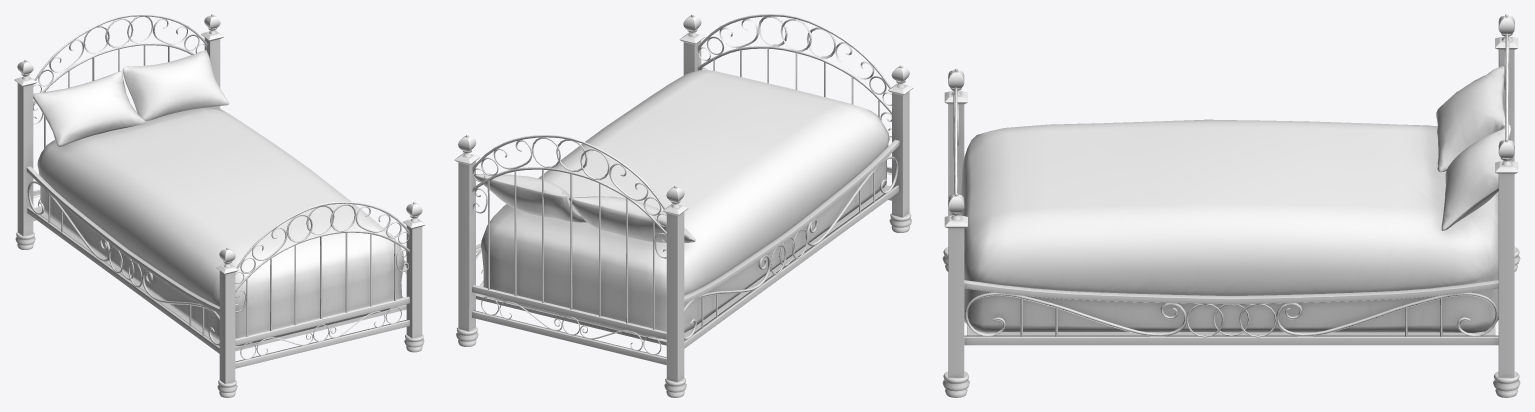
The model's file is bed2.glb.
3 renders of one model, left to right at view 1: azimuth 30°, elevation 25°; view 2: azimuth 150°, elevation 25°; view 3: azimuth 270°, elevation 25°, orthographic. The views are drawn at different scales.
Parts seen in each view (by area): view 1: node_id167; view 2: node_id167; view 3: node_id167.
Boxes of the visible parts, box(x1,y1,x2,y2) form: node_id167: box(14, 14, 425, 397); node_id167: box(454, 14, 913, 397); node_id167: box(942, 14, 1520, 397).
Bounding box in the file's own units: 0.512 × 0.4966 × 0.92.
Materials: 1 (1 with a texture image).
